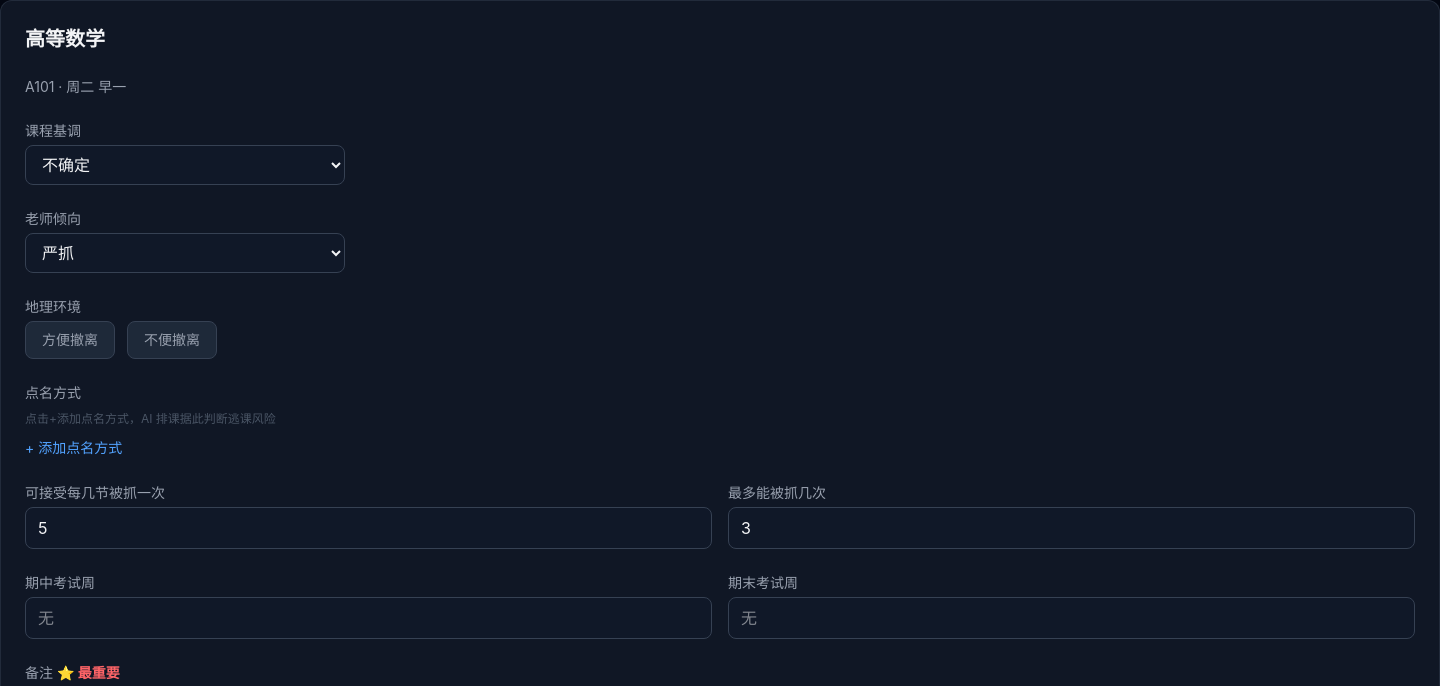
it: CourseEditor › frequency dropdown includes 几乎不点
This screenshot has width=1440, height=686.
Click the button "+ 添加点名方式" at [74, 448], box [25,438,122,458]
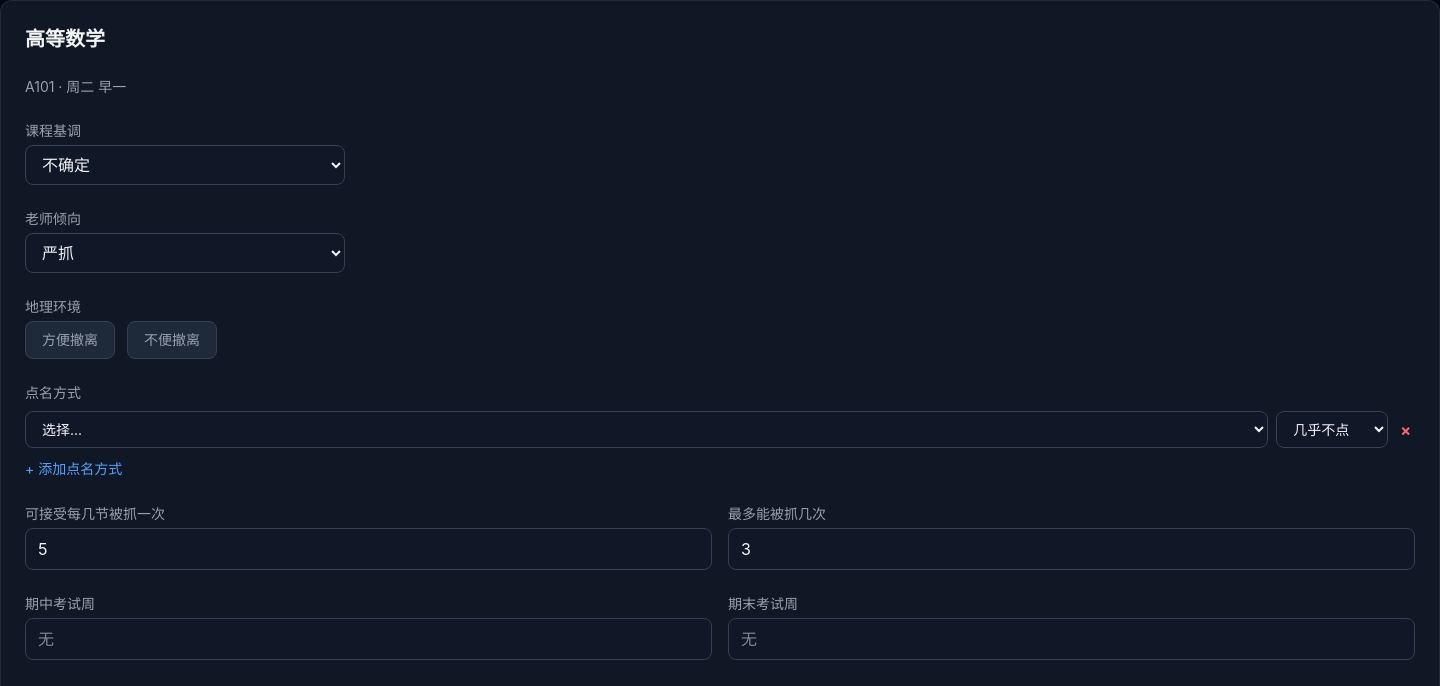
expect the 4th dropdown is shown: met, box [1276,411,1388,448]
